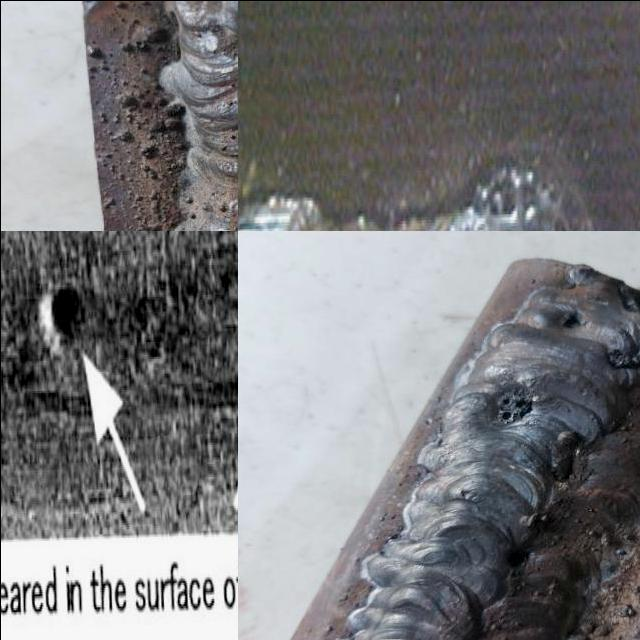defect: (473, 170, 571, 230), (30, 254, 92, 345), (485, 386, 536, 424), (602, 343, 640, 368), (557, 308, 592, 330), (501, 545, 530, 568)
